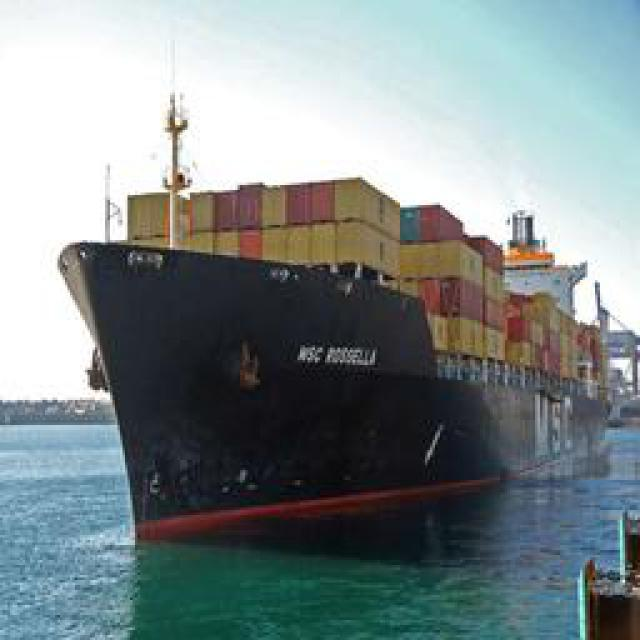Ship: (50, 30, 640, 541)
